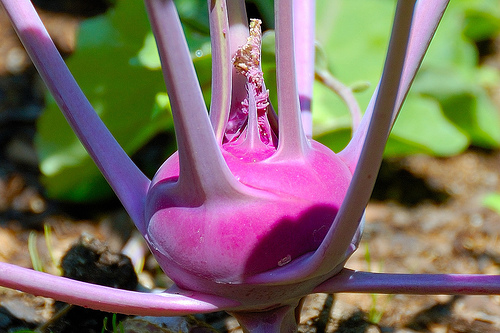turnip: (0, 1, 499, 329)
